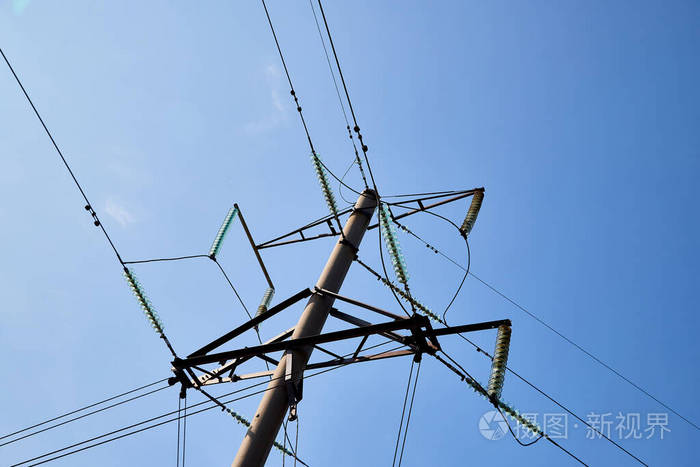insulator: (462, 376, 539, 437), (121, 270, 163, 331), (379, 205, 410, 282), (387, 283, 442, 322), (310, 150, 338, 214), (490, 324, 512, 397), (213, 209, 238, 256), (460, 190, 483, 233), (257, 287, 273, 315)
